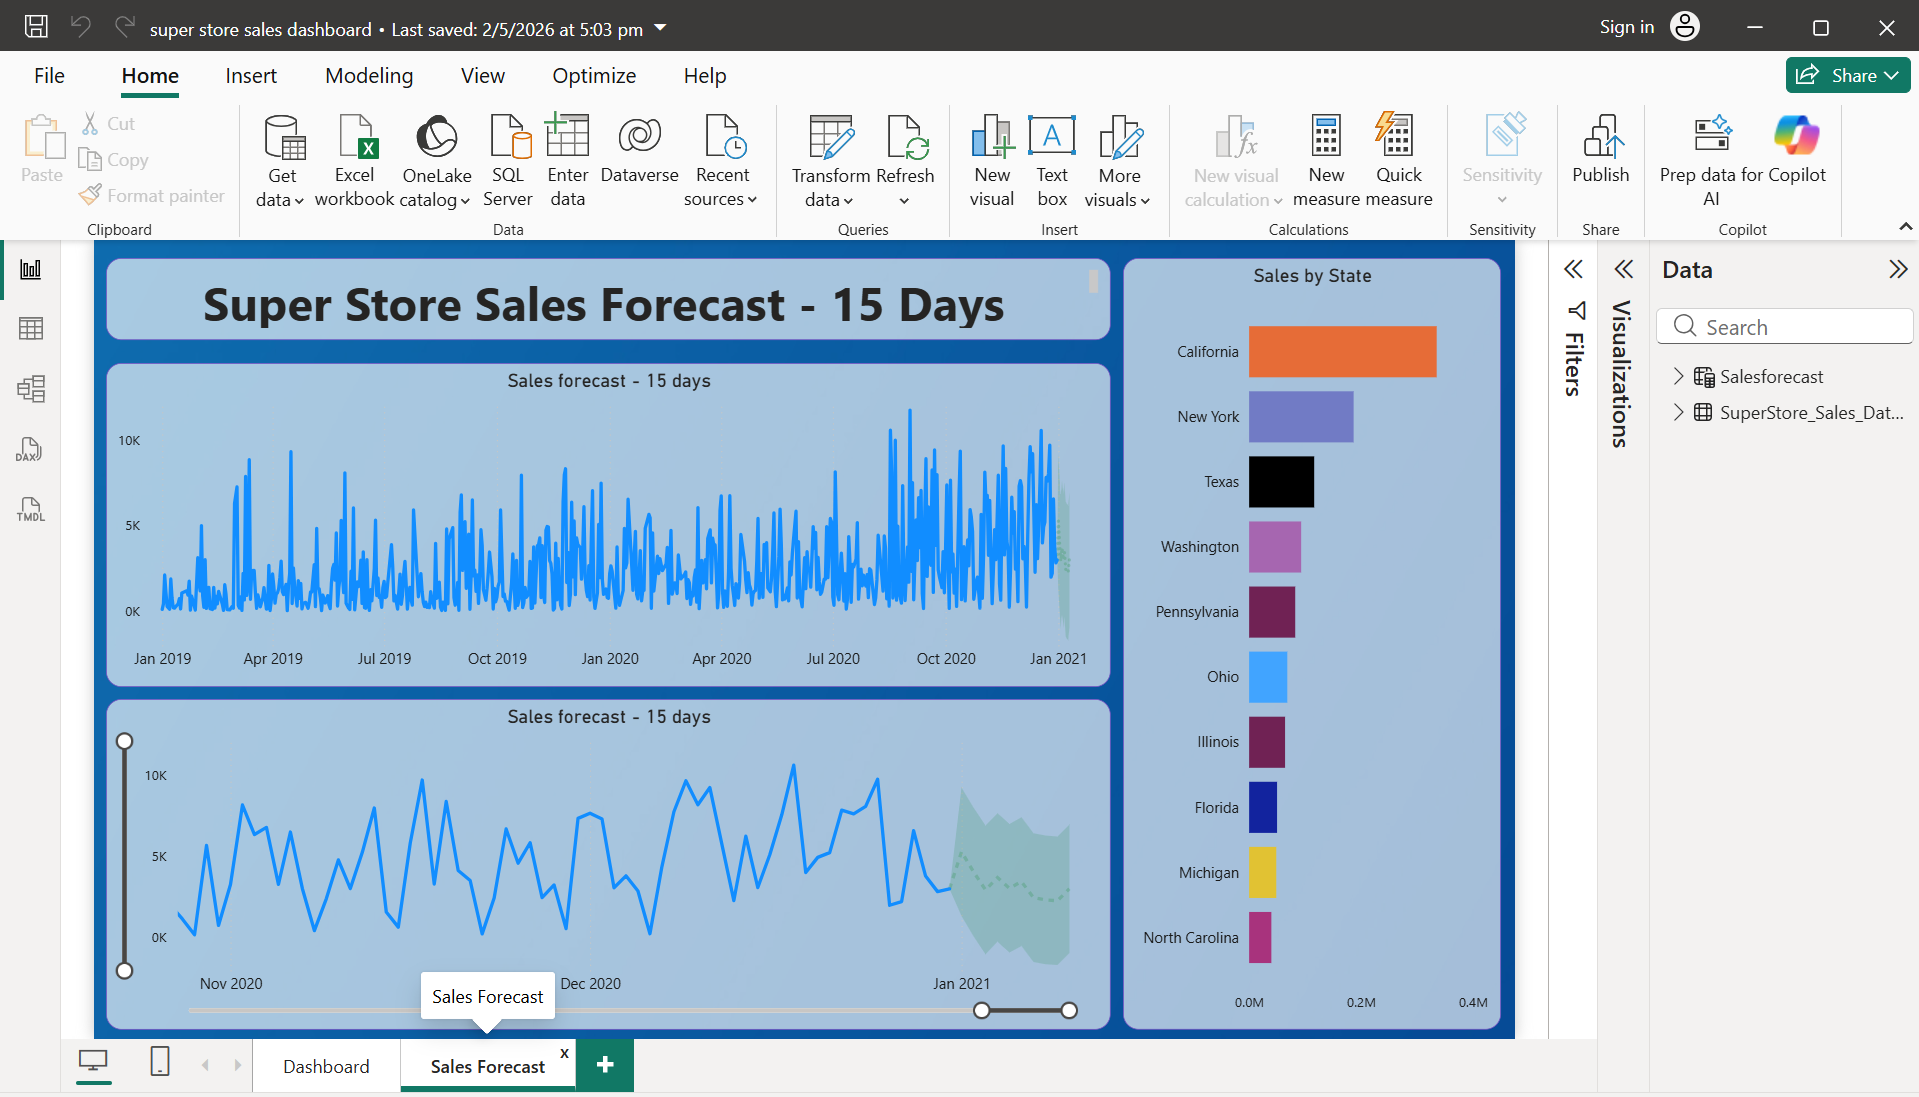

Layout of this report page (visuals, bound fields, positions):
{"tool":"powerbi","page":{"name":"Sales Forecast","canvas":[1280,720],"ordinal":1},"visuals":[{"type":"lineChart","title":"Sales forecast - 15 days","fields":{"Y":["Sum(SuperStore_Sales_Dataset.Sales)"],"Category":["SuperStore_Sales_Dataset.Order Date"]},"box":[10.6,110.5,905.5,292.2],"z":0},{"type":"lineChart","title":"Sales forecast - 15 days","fields":{"Y":["Sum(SuperStore_Sales_Dataset.Sales)"],"Category":["SuperStore_Sales_Dataset.Order Date"]},"box":[10.6,413.4,905.5,298.3],"z":1000},{"type":"barChart","title":"Sales by State","fields":{"Y":["Sum(SuperStore_Sales_Dataset.Sales)"],"Category":["SuperStore_Sales_Dataset.State"]},"box":[926.7,16.7,340.7,695],"z":2000},{"type":"textbox","box":[10.6,16.7,905.5,74.2],"z":2004}]}

Visuals, with their boxes on the page's 1280x720 design canvas (x1, y1, x2, y2). These are canvas units, not pixel positions in the 1919x1097 screenshot, which may show the page scaled, cropped or inside an application window:
"Sales forecast - 15 days" lineChart: Rect(11, 110, 916, 403)
"Sales forecast - 15 days" lineChart: Rect(11, 413, 916, 712)
"Sales by State" barChart: Rect(927, 17, 1267, 712)
textbox: Rect(11, 17, 916, 91)
